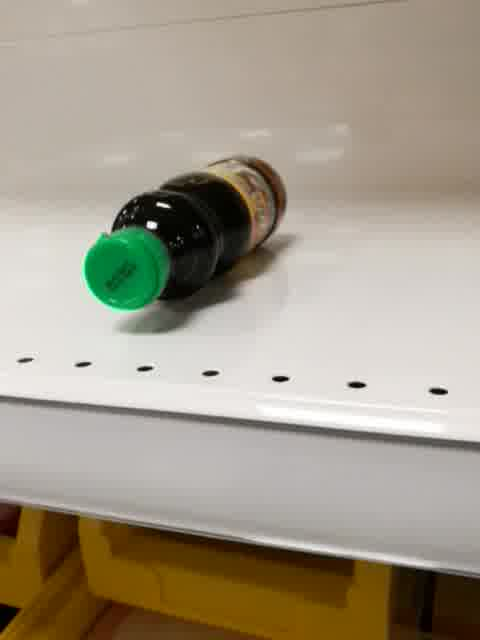cookingoil: (81, 151, 293, 315)
